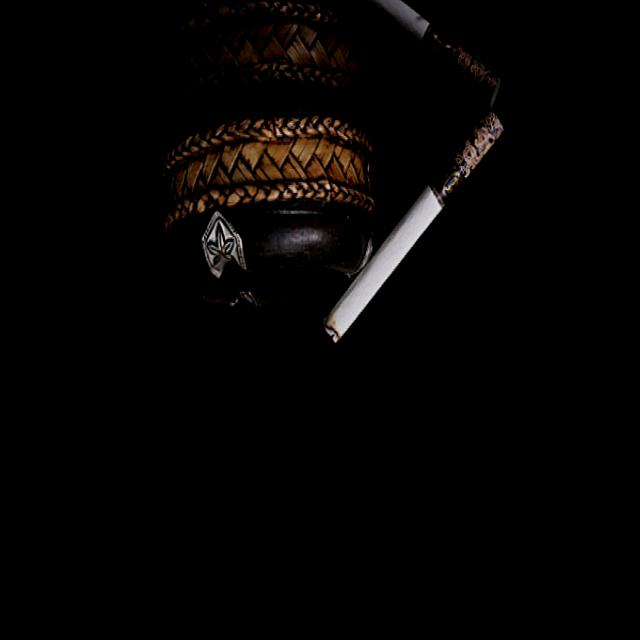cigarette: (314, 102, 508, 340)
